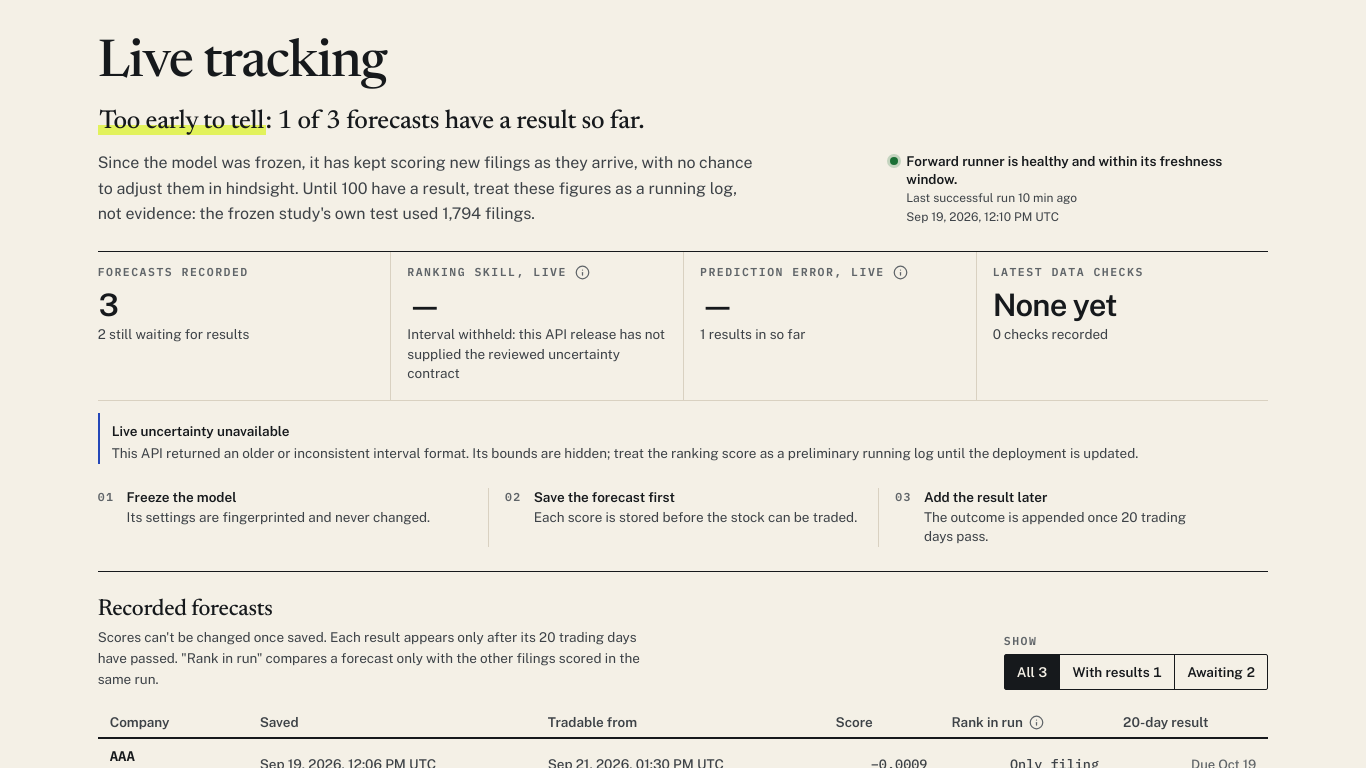
Test: Forward Lab › lets a reader see only the forecasts that have a result
Check: the heading "Recorded forecasts" is shown, box [98,598,273,621]
Step 1. Click the button "With results 1" → (1118, 672), box [1060,655,1175,689]
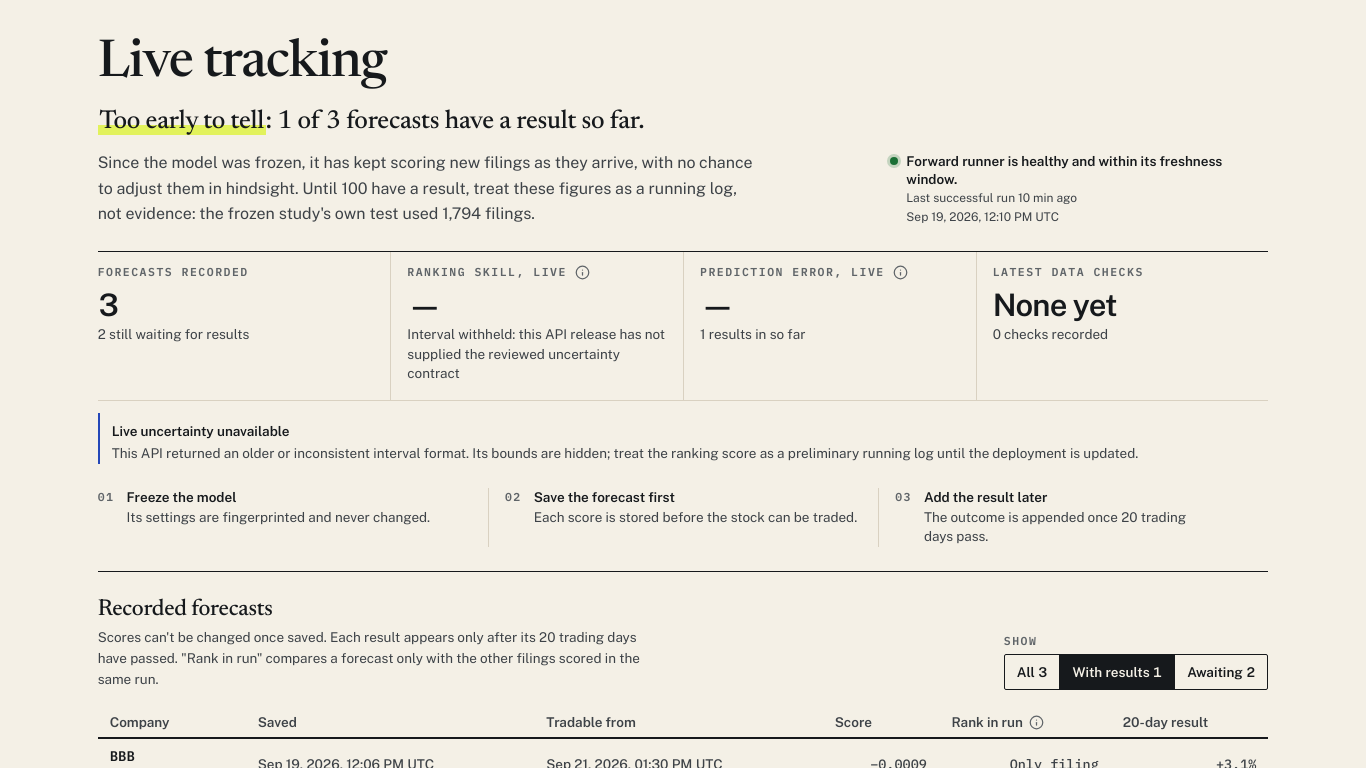
Check: the text "BBB" is shown, box [110,747,135,765]
Check: the text "AAA" is gone
Step 2. Click the button "Awaiting 2" → (1221, 672), box [1175,655,1267,689]
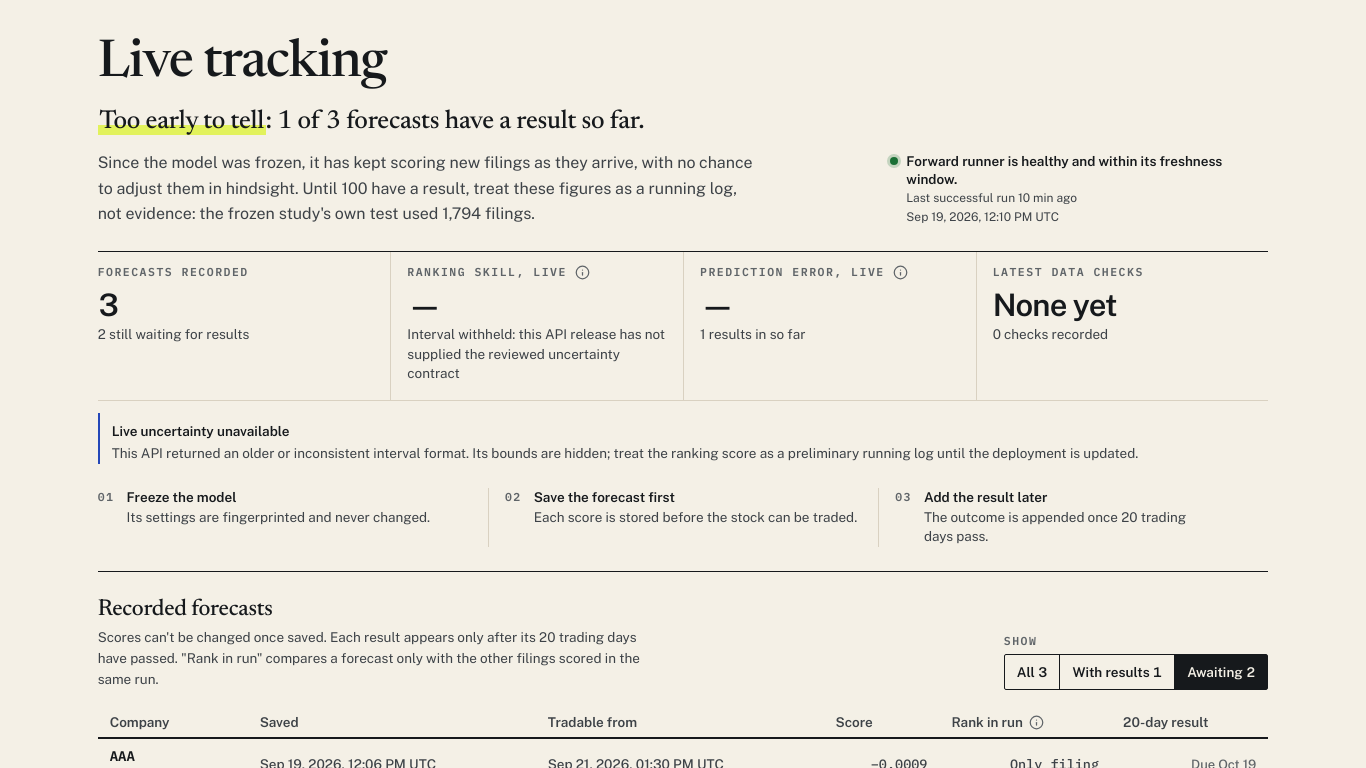
Check: the text "AAA" is shown, box [110,747,135,765]
Check: the text "BBB" is gone
Check: the text "Due Oct 19" is shown 2 times
